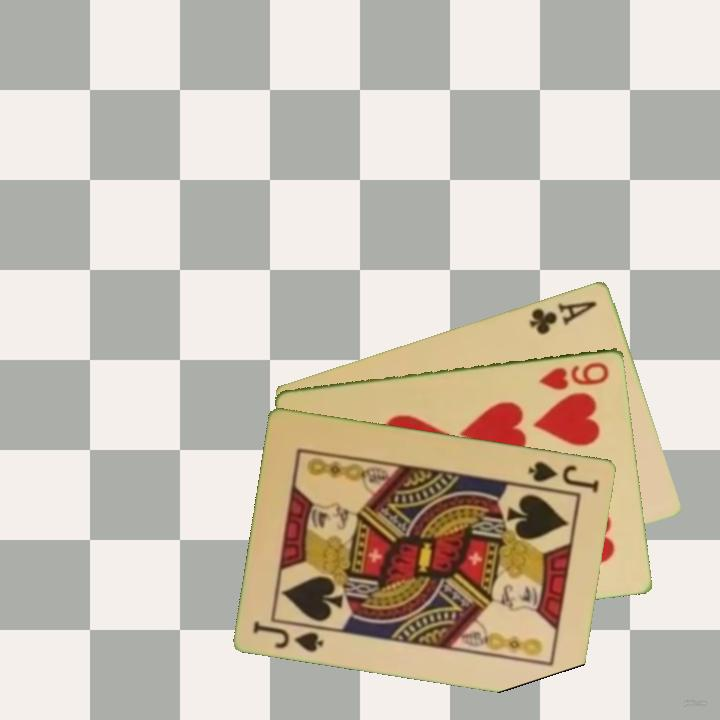9h: (536, 358, 612, 393)
Ac: (526, 296, 600, 337)
Js: (525, 457, 603, 495), (250, 617, 327, 655)
